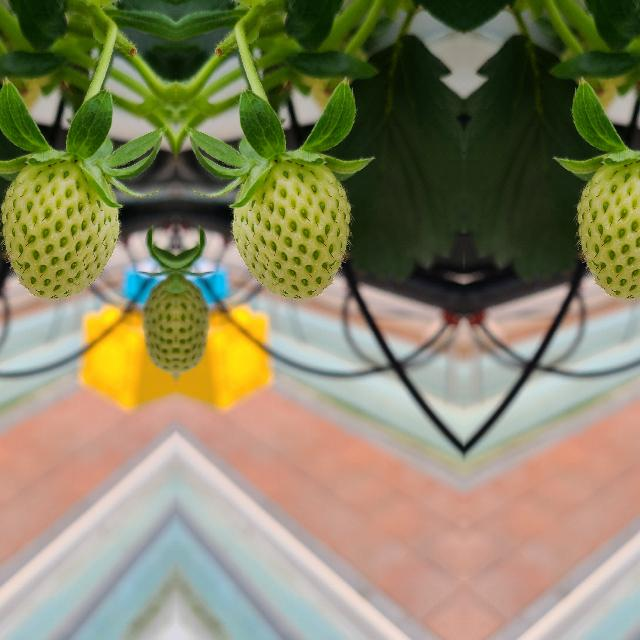Health_25: (231, 160, 349, 298), (1, 160, 119, 298), (577, 159, 640, 298)
